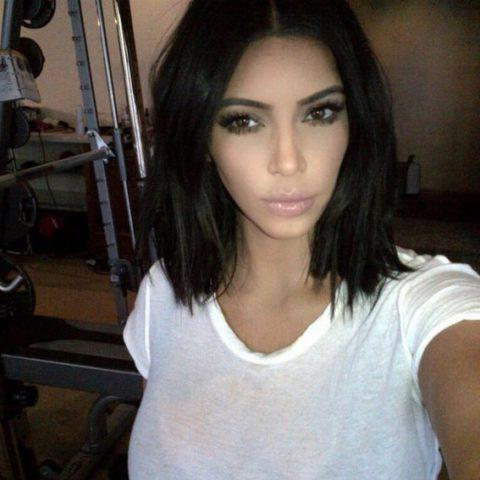face: (210, 34, 350, 242)
